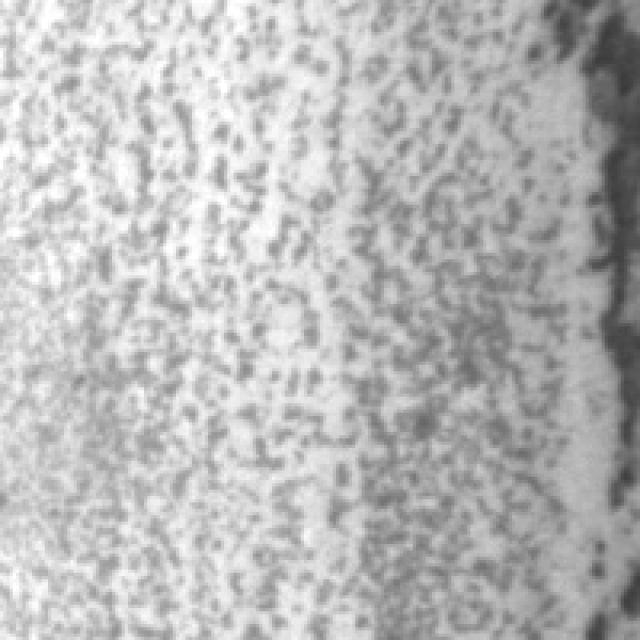patches: (541, 0, 630, 208)
pitted_surface: (0, 0, 570, 621)
